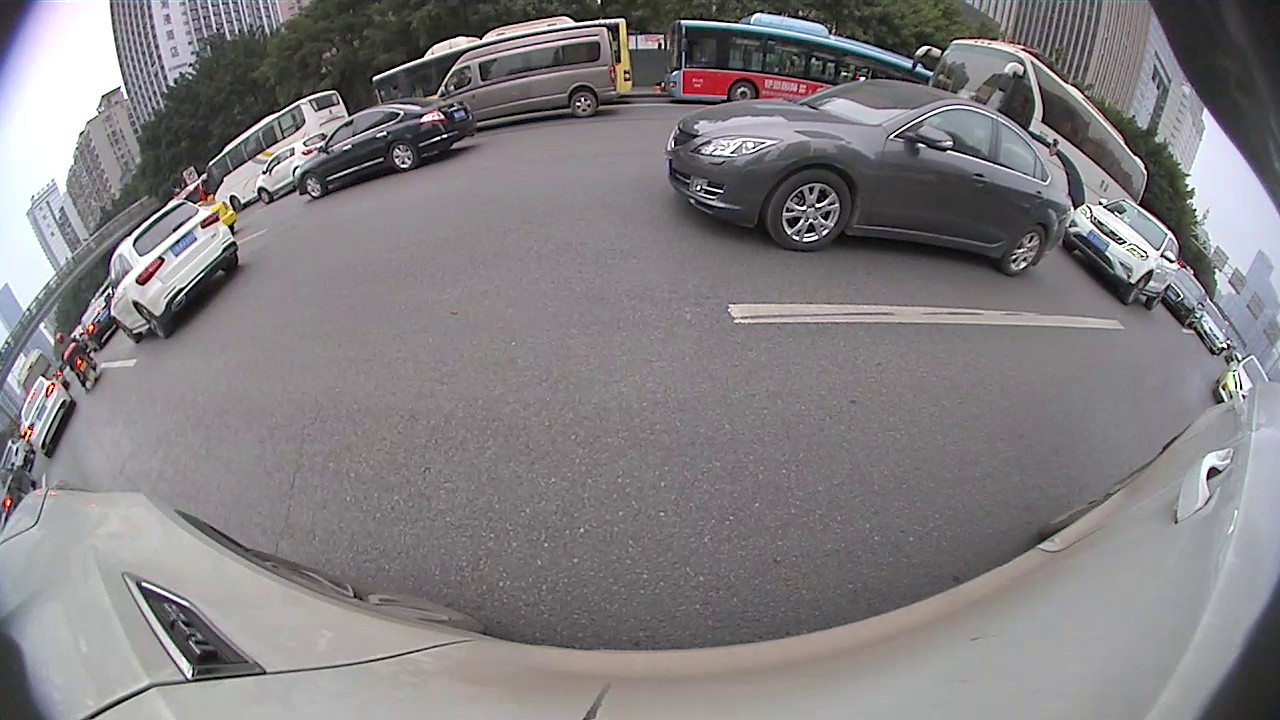bus: (915, 35, 1150, 209), (669, 9, 942, 105), (369, 13, 632, 104), (201, 88, 352, 209)
car: (665, 78, 1076, 278), (104, 195, 241, 346), (294, 94, 475, 205), (429, 25, 615, 124), (1061, 193, 1177, 313), (255, 130, 326, 205), (19, 375, 72, 463), (1159, 265, 1206, 338), (1216, 354, 1273, 408), (79, 293, 117, 348), (3, 465, 35, 530), (195, 196, 238, 238), (1200, 304, 1231, 359), (1, 436, 40, 472)
front: (764, 170, 852, 252), (1118, 274, 1154, 305), (113, 318, 140, 341), (731, 80, 756, 103), (303, 174, 325, 196), (257, 187, 272, 202)
rear: (998, 227, 1047, 275), (137, 303, 169, 337), (388, 142, 417, 170), (571, 92, 596, 117), (1146, 286, 1170, 309)
rider: (51, 326, 104, 395)
